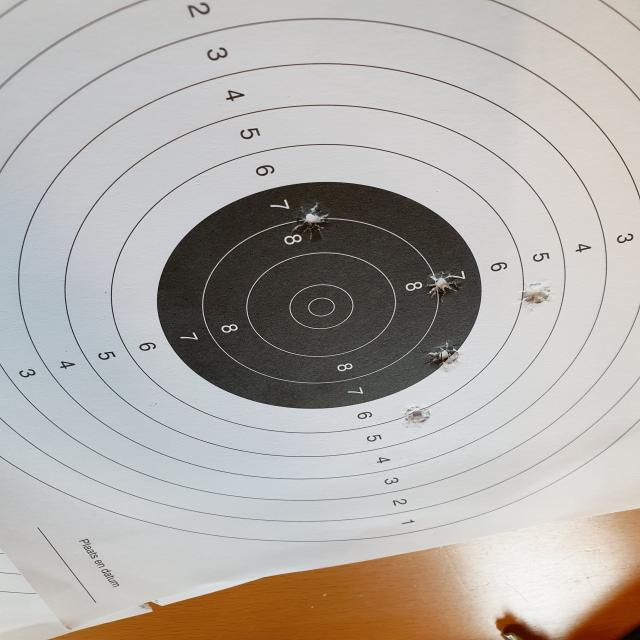6: (518, 278, 554, 308), (404, 404, 434, 429)
7: (426, 338, 466, 374)
8: (288, 204, 332, 236), (424, 268, 461, 298)
Target: (0, 0, 640, 545)
black_contour: (158, 182, 482, 410)
